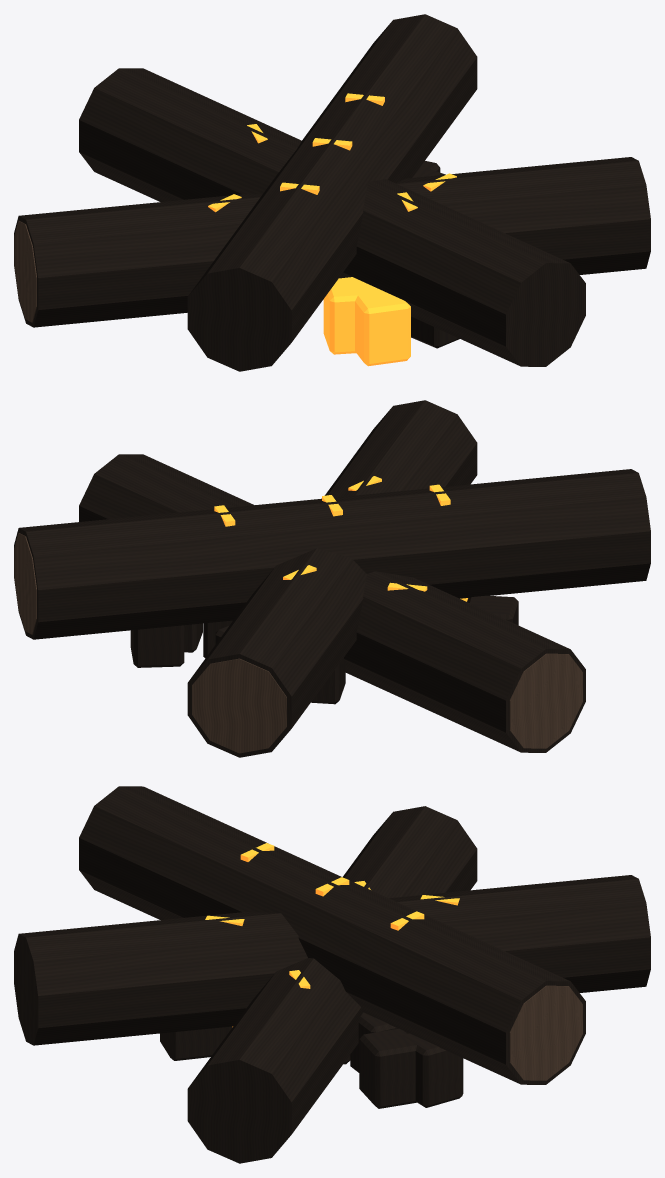
Rendered from campfire.glb.
The picture shows the model from 3 angles, top to bottom: view 1: azimuth 30°, elevation 25°; view 2: azimuth 150°, elevation 25°; view 3: azimuth 270°, elevation 25°; orthographic projection.
Visible parts, largest first — view 1: campfire; view 2: campfire; view 3: campfire.
Part boxes in pixels (left/top/right/bottom): campfire: left=14, top=14, right=650, bottom=371; campfire: left=14, top=400, right=650, bottom=757; campfire: left=14, top=786, right=650, bottom=1163.
Size of the model in its own units: 0.7449 by 0.199 by 0.75.
Materials: 3 (2 with a texture image).
